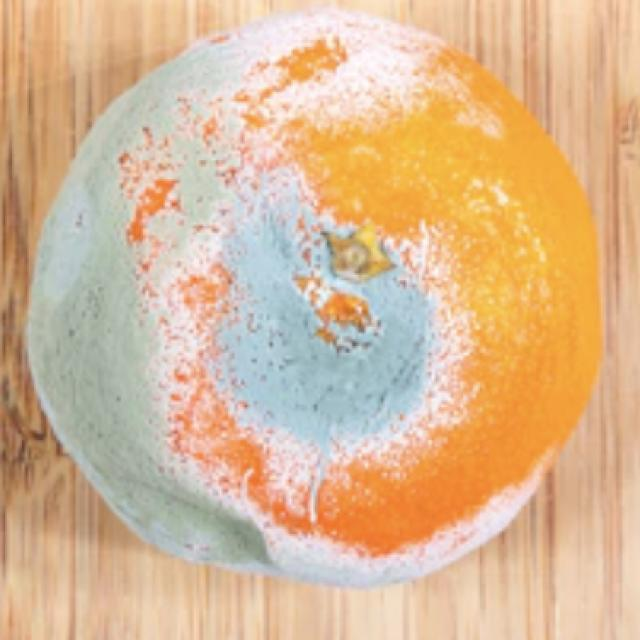rotten-orange: (30, 9, 599, 581)
